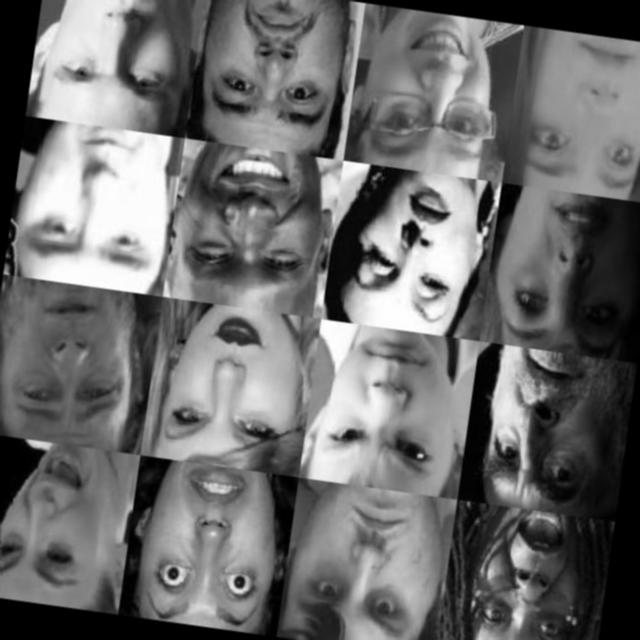angry: (282, 485, 445, 640), (473, 341, 608, 508), (0, 280, 144, 433), (314, 338, 454, 469)
fear: (495, 188, 640, 351), (138, 463, 276, 624), (513, 27, 640, 197), (454, 506, 594, 640)
happy: (152, 296, 306, 476), (350, 3, 514, 170), (173, 144, 322, 302)
neutral: (334, 166, 482, 325), (24, 118, 168, 274), (197, 0, 352, 136), (44, 0, 199, 115)
sad: (0, 439, 132, 606)
